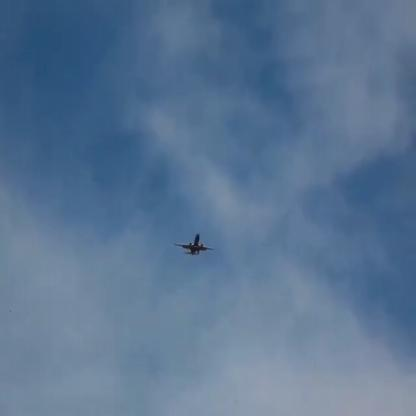CIV_Plane: (174, 233, 215, 256)
